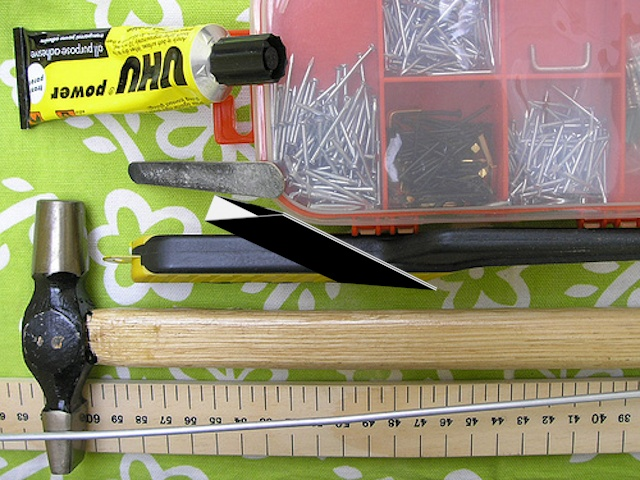ring_binder: (201, 193, 440, 296)
